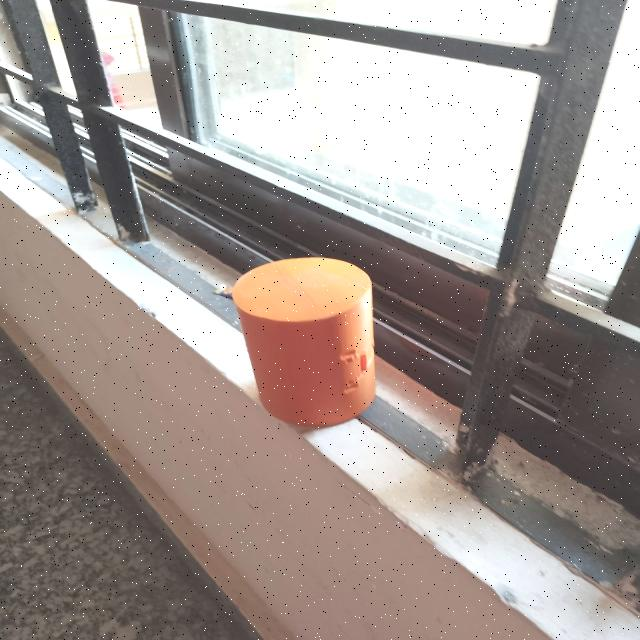Cylinder: (230, 255, 377, 427)
